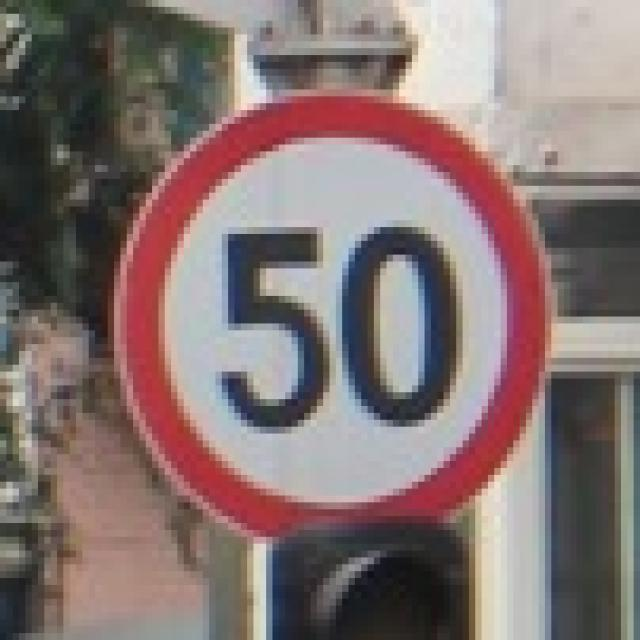Speed Limit -50-: (216, 218, 464, 440)
